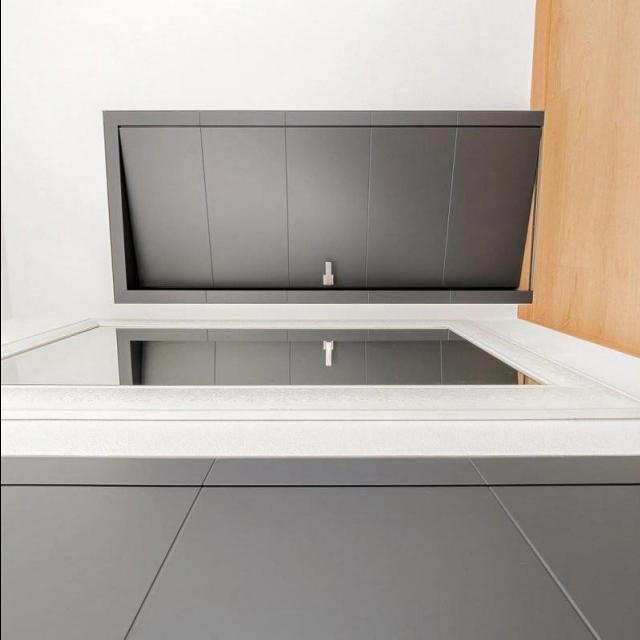open: (100, 111, 540, 309)
